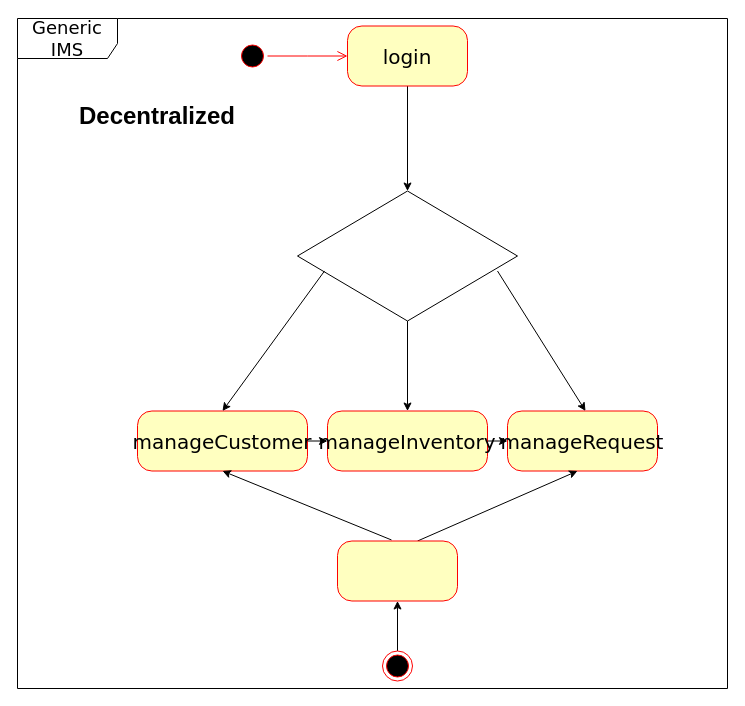
Some shapes in this 745 by 706 pixel diagram are drawn without their labels. The box of each missing label's shape, as (x1, y1, x2, y2) in pixels:
checkUserPrivileges: (296, 190, 518, 321)
logout: (336, 540, 458, 601)
